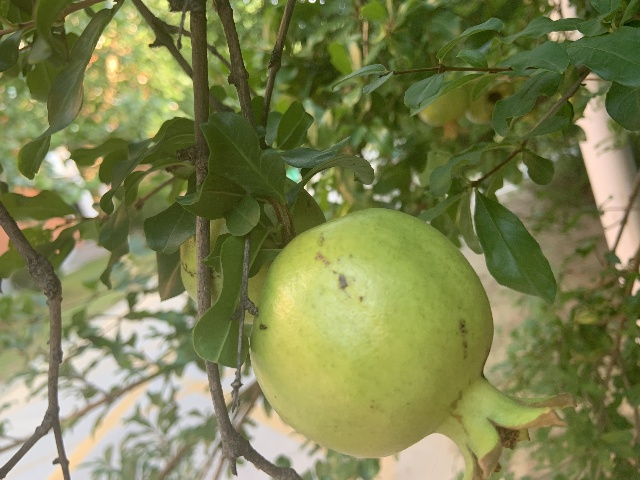mid-growth: (249, 208, 576, 480), (179, 176, 326, 323), (418, 86, 470, 143), (464, 81, 514, 124)
